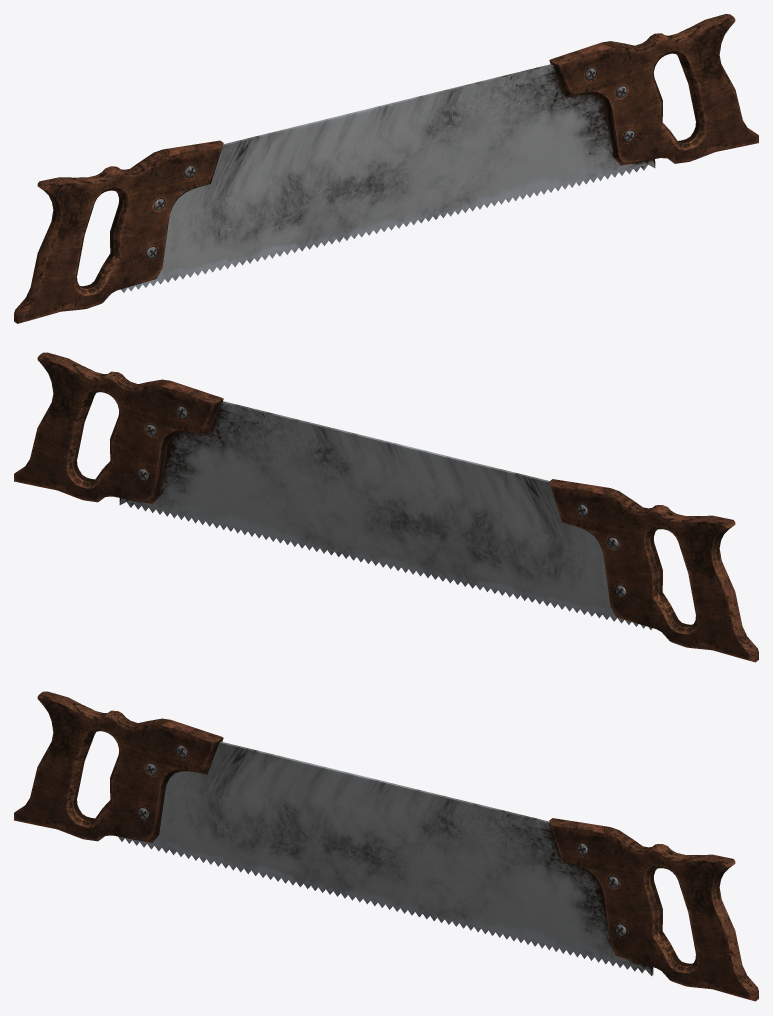
Rendered from saw.fbx.
The picture shows the model from 3 angles, top to bottom: view 1: azimuth 30°, elevation 25°; view 2: azimuth 150°, elevation 25°; view 3: azimuth 330°, elevation 25°; orthographic projection.
Parts seen in each view (by area): view 1: Saw, SawHandle; view 2: Saw, SawHandle; view 3: Saw, SawHandle.
Part boxes in pixels (x1,y1,x2,y2): Saw: [121, 64, 655, 292]; SawHandle: [14, 14, 758, 323]; Saw: [119, 401, 652, 629]; SawHandle: [14, 352, 758, 662]; Saw: [118, 741, 653, 975]; SawHandle: [14, 691, 758, 1001].
Bounding box in the file's own units: 396 × 69.97 × 9.73.
